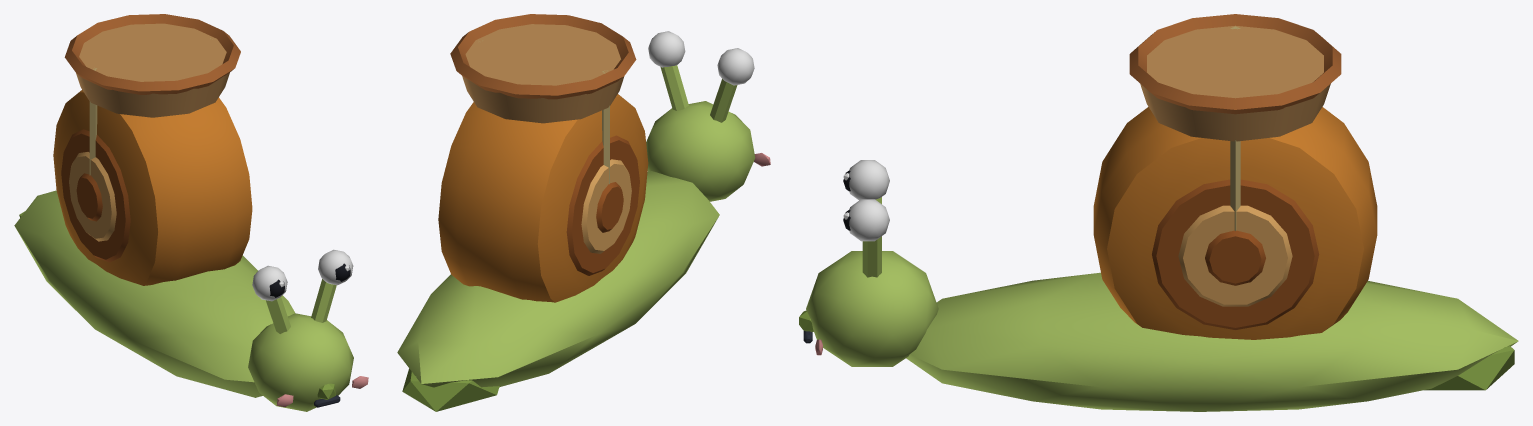
The model's file is comp_schnecke.glb.
The picture shows the model from 3 angles, left to right: view 1: azimuth 30°, elevation 25°; view 2: azimuth 150°, elevation 25°; view 3: azimuth 270°, elevation 25°; orthographic projection. The views are drawn at different scales.
Visible parts, largest first — view 1: body, head; view 2: body, head; view 3: body, head.
Boxes of the visible parts, x1=… form: body: x1=14, y1=14, x2=294, y2=397; head: x1=248, y1=249, x2=368, y2=411; body: x1=397, y1=14, x2=719, y2=411; head: x1=646, y1=31, x2=770, y2=201; body: x1=906, y1=14, x2=1518, y2=411; head: x1=799, y1=160, x2=938, y2=366.
Size of the model in its own units: 0.4946 by 0.85 by 1.63.
